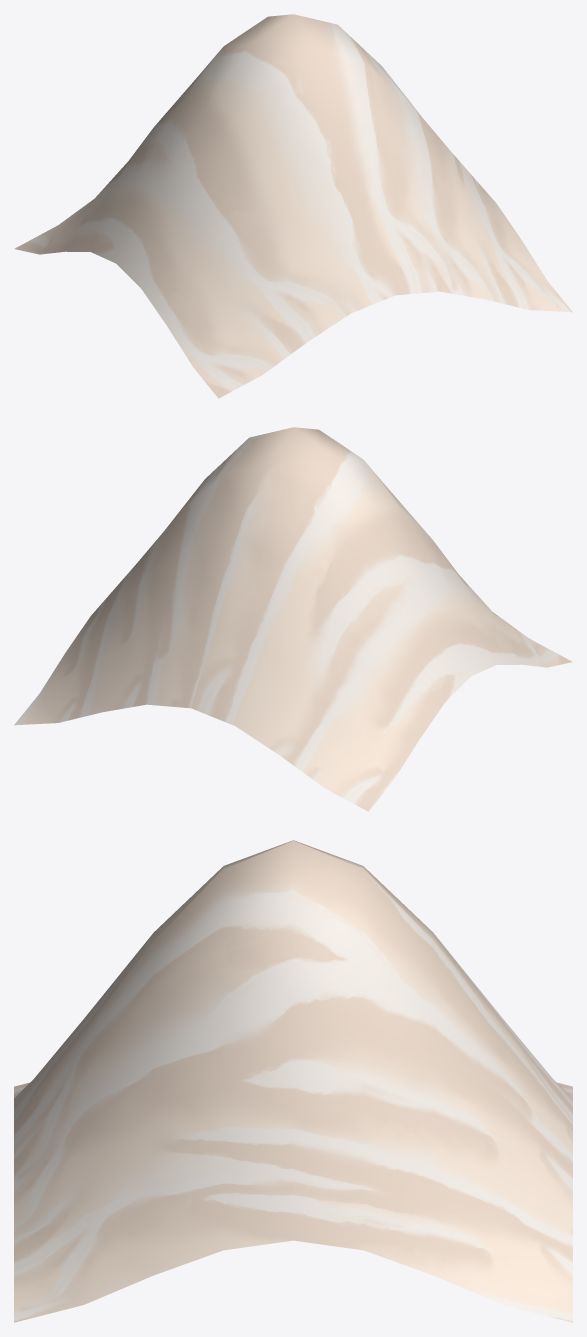
Rendered from dune.glb.
3 views of the same model, one above another, from view 1: azimuth 30°, elevation 25°; view 2: azimuth 150°, elevation 25°; view 3: azimuth 270°, elevation 25° (orthographic). The views are drawn at different scales.
Parts seen in each view (by area): view 1: Dune; view 2: Dune; view 3: Dune.
Part boxes in pixels (x1=…): Dune: x1=14, y1=14, x2=572, y2=398; Dune: x1=14, y1=427, x2=572, y2=811; Dune: x1=14, y1=840, x2=572, y2=1322.
Bounding box in the file's own units: 6.46 × 4.64 × 6.46.
Materials: 1 (1 with a texture image).
